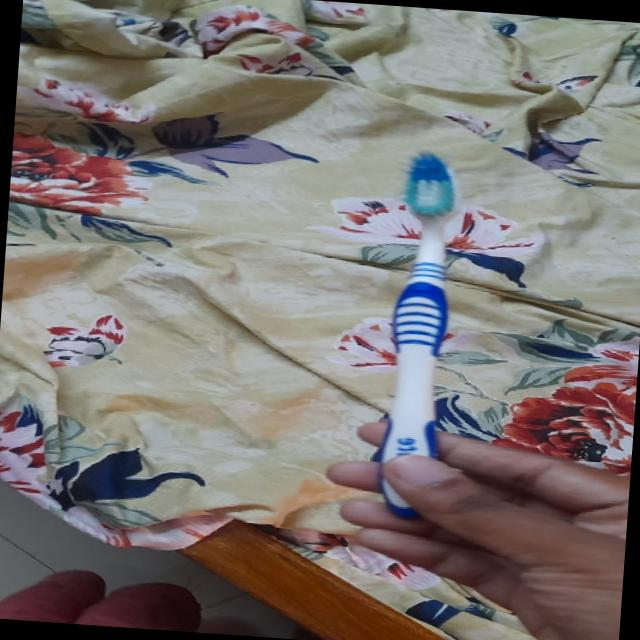Tooth_Brush - Non Recyclable: (354, 132, 532, 532)
